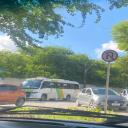NoVirarU: (102, 48, 118, 62)
